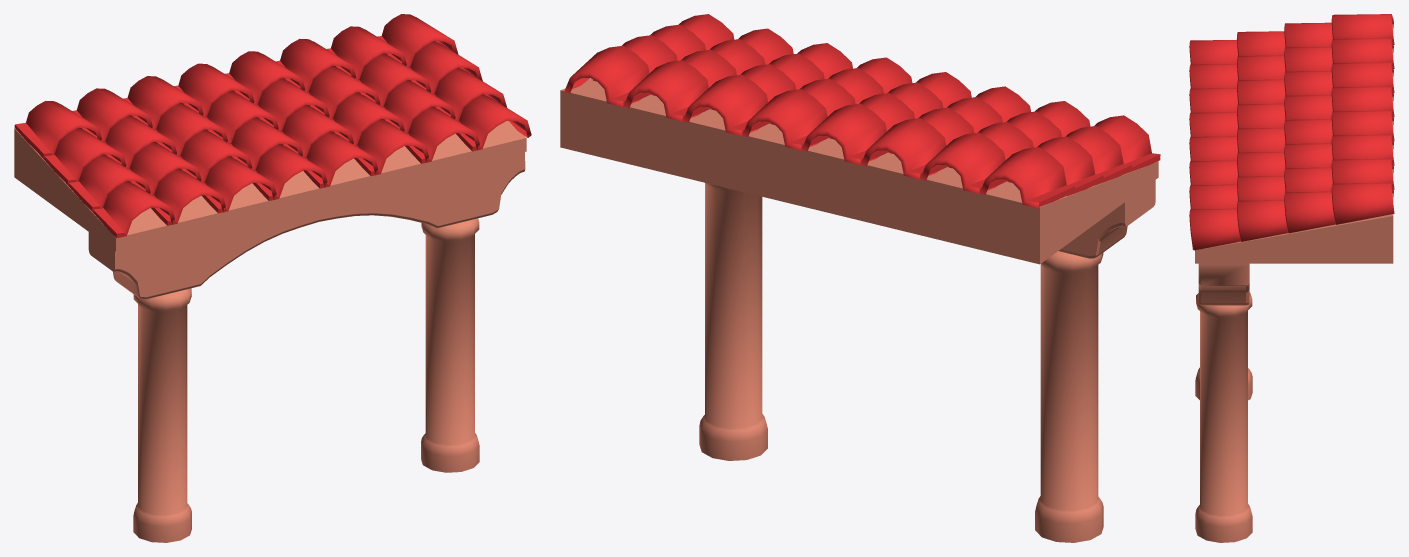
Rendered from TejadoBajoVariacion.fbx.
3 views of the same model, side by side, from view 1: azimuth 30°, elevation 25°; view 2: azimuth 150°, elevation 25°; view 3: azimuth 270°, elevation 25° (orthographic). The views are drawn at different scales.
Parts seen in each view (by area): view 1: Tejado.009, tejado_bajo.002; view 2: tejado_bajo.002, Tejado.009; view 3: Tejado.009, tejado_bajo.002.
Part boxes in pixels (bbox=[...]): Tejado.009: bbox=[14, 14, 531, 238]; tejado_bajo.002: bbox=[14, 121, 526, 542]; tejado_bajo.002: bbox=[560, 78, 1158, 542]; Tejado.009: bbox=[564, 14, 1160, 208]; Tejado.009: bbox=[1189, 14, 1394, 250]; tejado_bajo.002: bbox=[1195, 24, 1393, 542].
Bounding box in the file's own units: 469 × 404 × 206.
